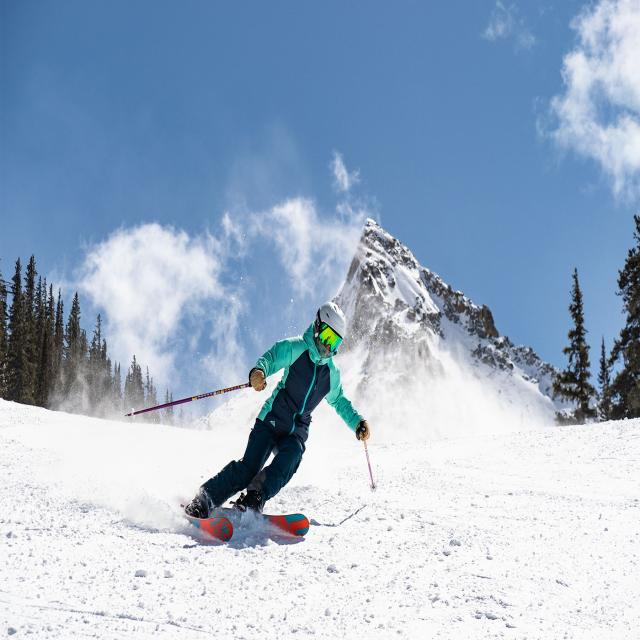skier: (126, 294, 387, 543)
